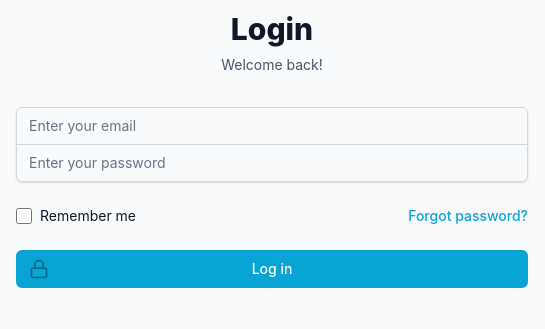
Test: LoginForm.vue › shows error for invalid email format
The image size is (545, 329).
Type "invalid-email" into the field with id "username_or_email" at x=272, y=126, box [16, 107, 528, 145]
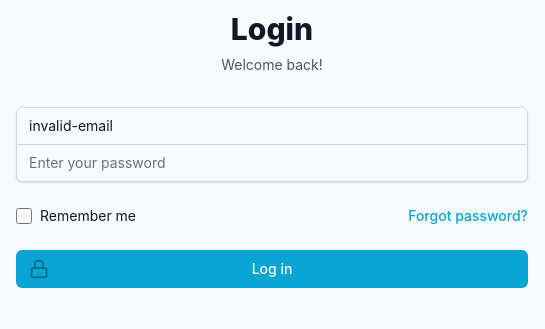
Type "123456" into the password field with placeholder "Enter your password" at x=272, y=163, box [16, 144, 528, 182]
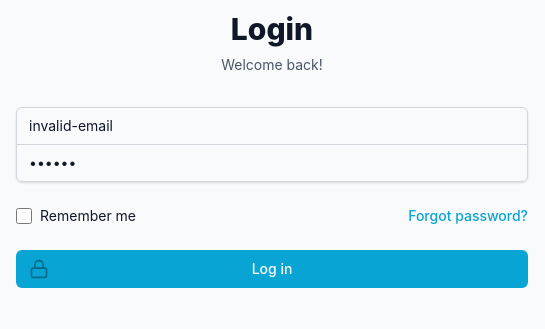
Submit the form, box [16, 107, 528, 288]
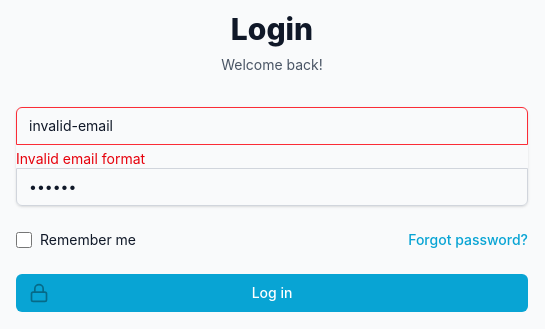
Result: the text "Invalid email format" is shown at [16, 150, 145, 167]
